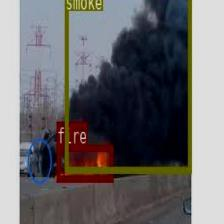fire: (56, 144, 113, 180)
smoke: (64, 0, 190, 171)
